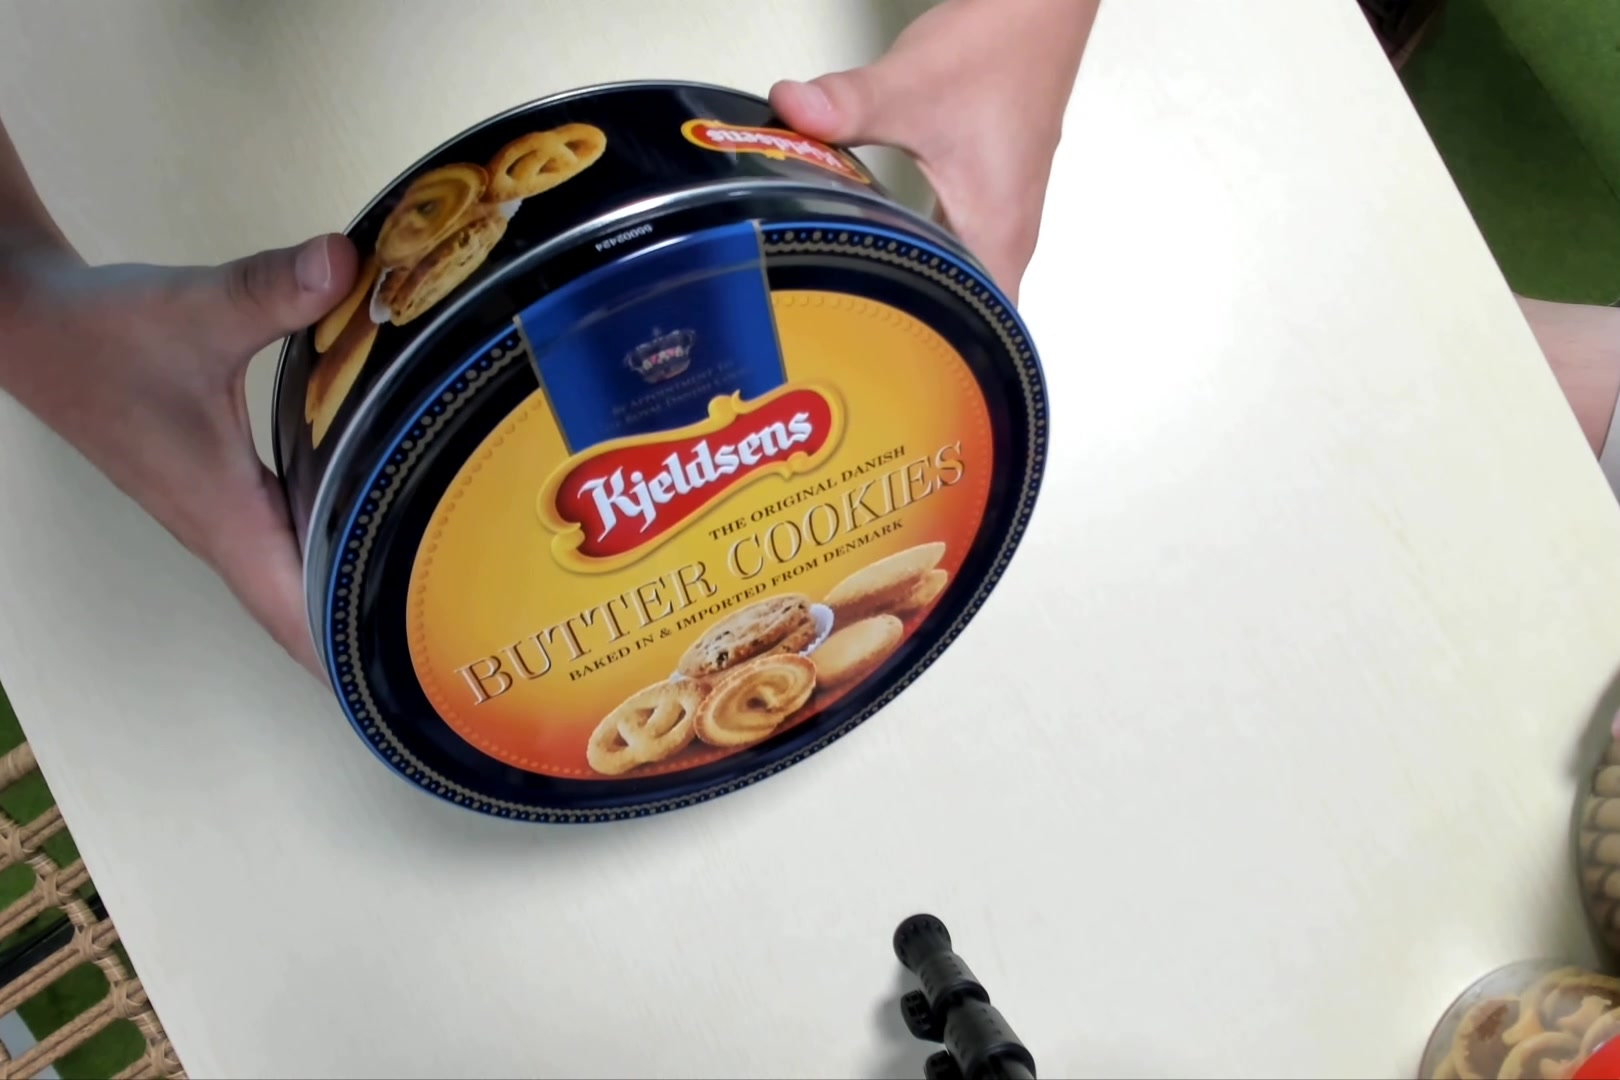BiscuitsCrackersCookies_400-499g_Halal_NonHealthy: (270, 89, 1035, 832)
